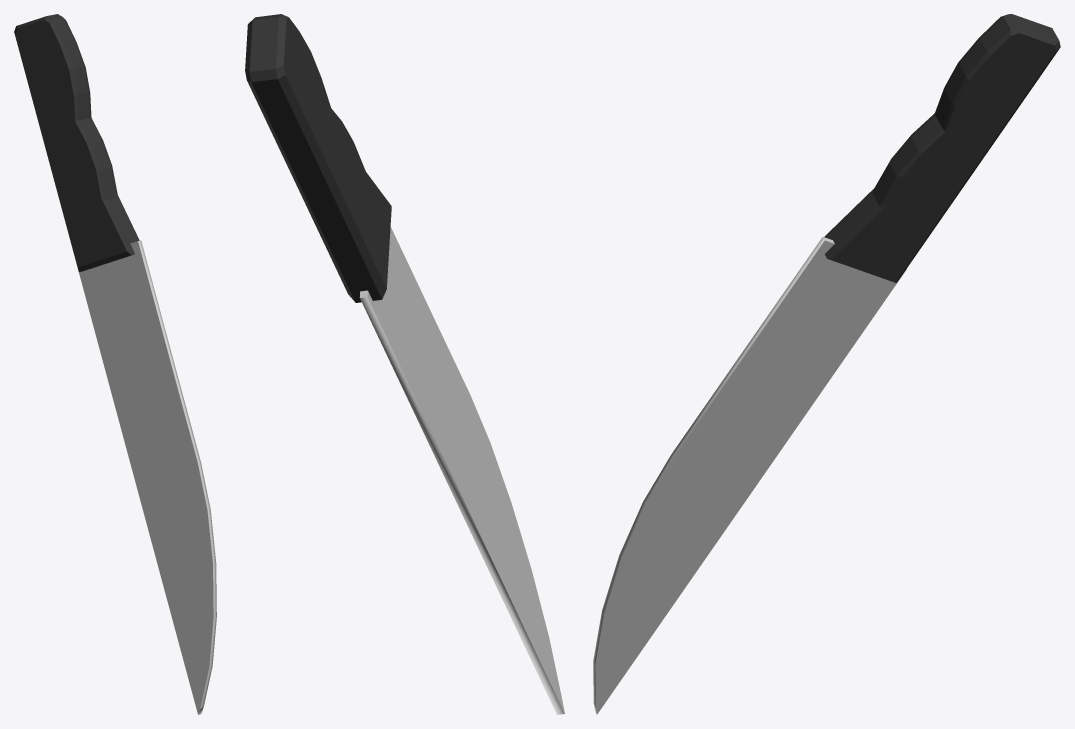
The model's file is knife.gltf.
3 renders of one model, left to right at view 1: azimuth 30°, elevation 25°; view 2: azimuth 150°, elevation 25°; view 3: azimuth 270°, elevation 25°, orthographic. The views are drawn at different scales.
Parts seen in each view (by area): view 1: Knife (Big).001; view 2: Knife (Big).001; view 3: Knife (Big).001.
Boxes of the visible parts, <box> form: Knife (Big).001: <box>14,14,216,714</box>; Knife (Big).001: <box>245,14,564,714</box>; Knife (Big).001: <box>593,14,1060,714</box>.
Bounding box in the file's own units: 0.0246 × 0.3099 × 0.1852.
Materials: 1 (1 with a texture image).
